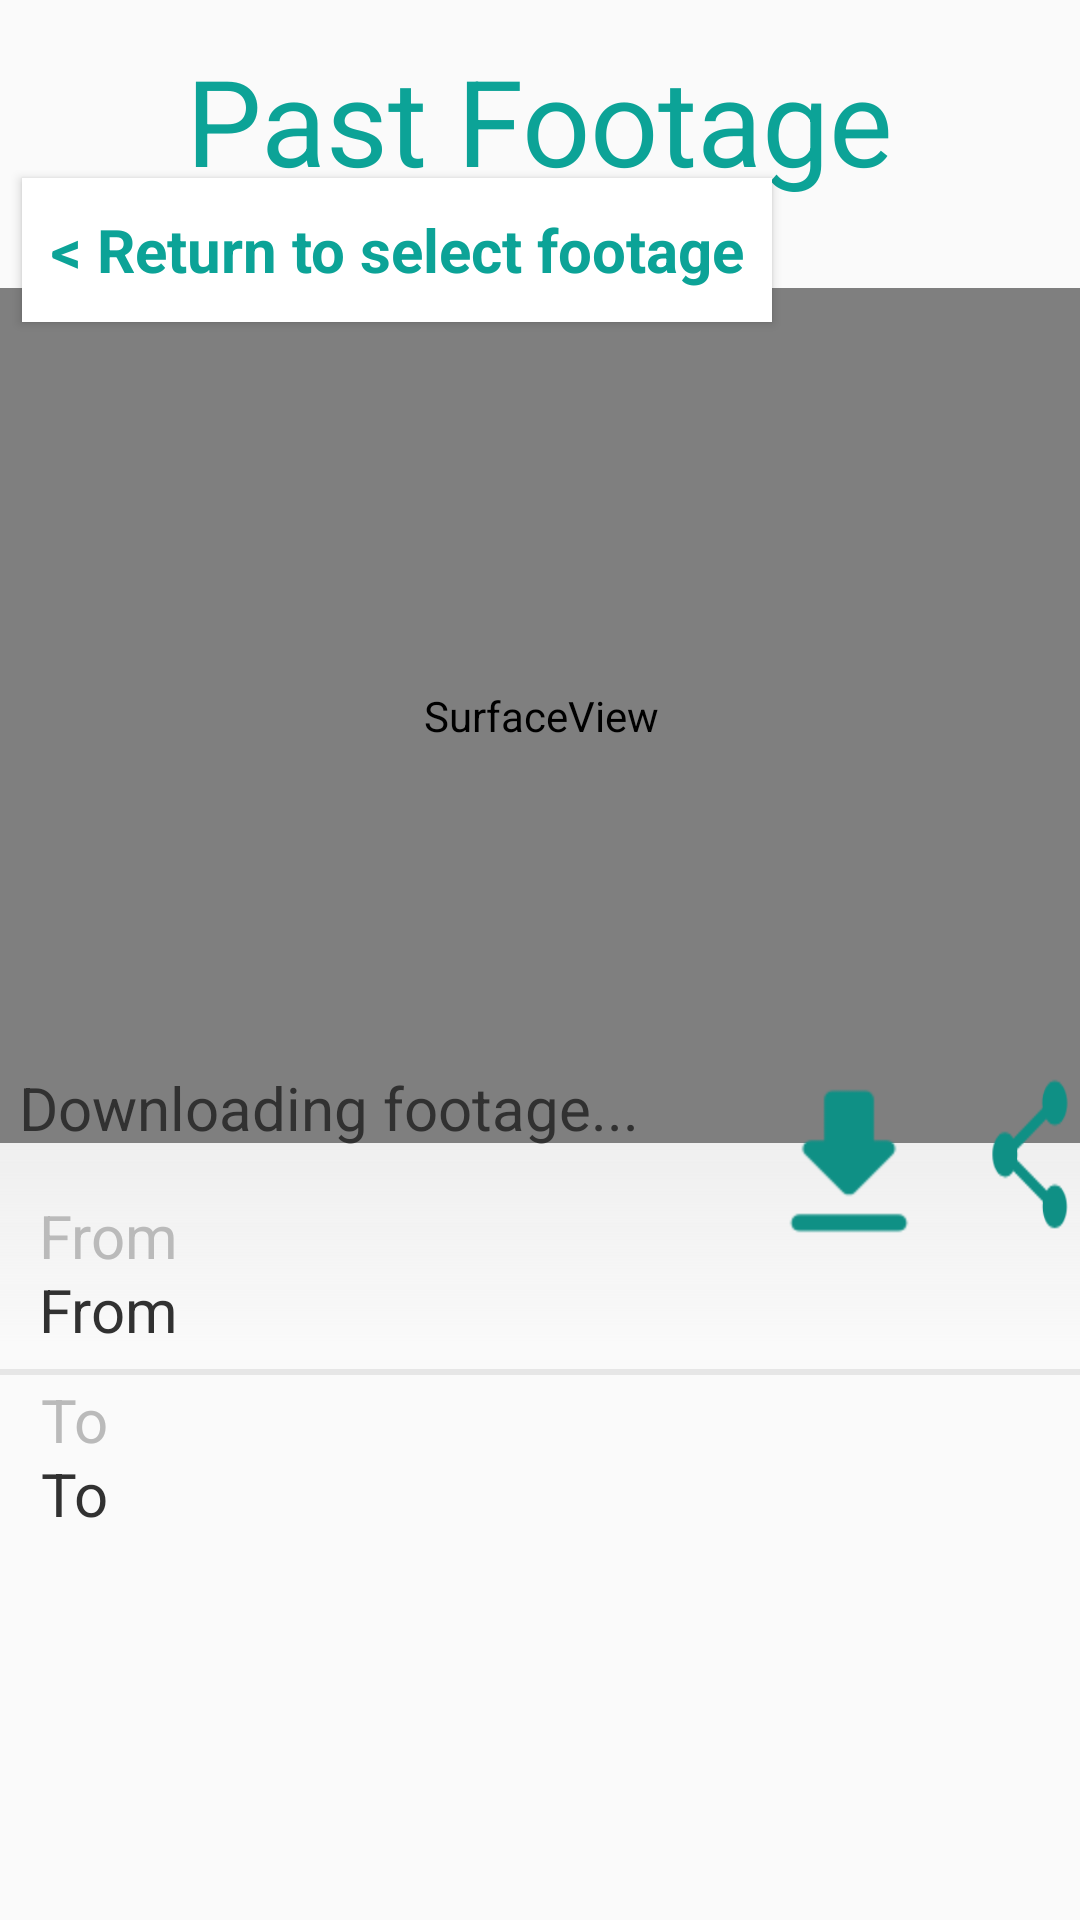

Screen size 1080px×1920px. Icon name, then its center in pixels as point (x, y):
downloadicon: point (850, 1166)
shareicon: point (1030, 1155)
